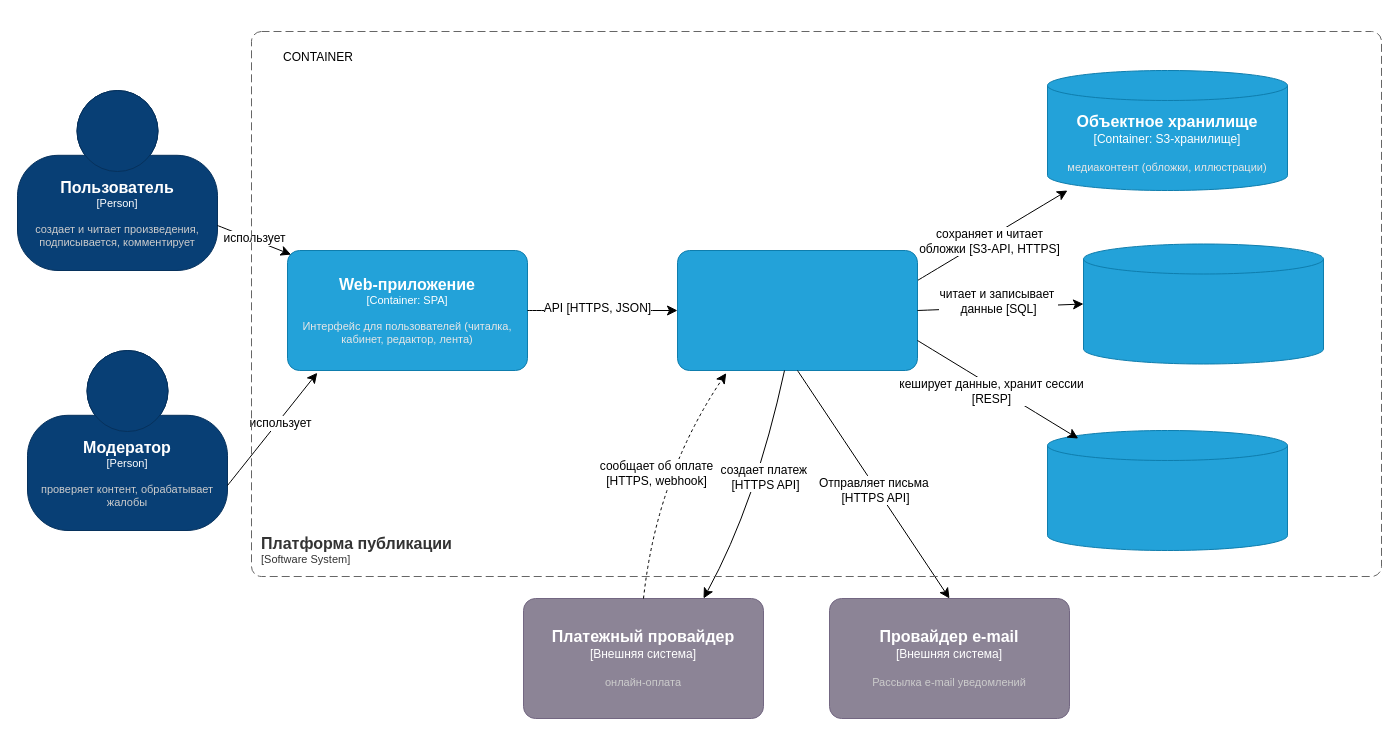
Image size: 1399x736. Some labels were removed from this diagram. The shapes that lost their labels are listed below. From the top down, each one's centre as x and y in pixels, then its label:
At point (797, 310): "Backend [Container: Модульный монолит] Бизнес-логика, REST API, доменные события".
At point (1203, 303): "Единая БД [Container: PostrgeSQL] пользователи, контент, связи".
At point (1167, 490): "Кэш [Container: Redis] ускоряет каталог и ленту, хранение сессий, rate limit".
